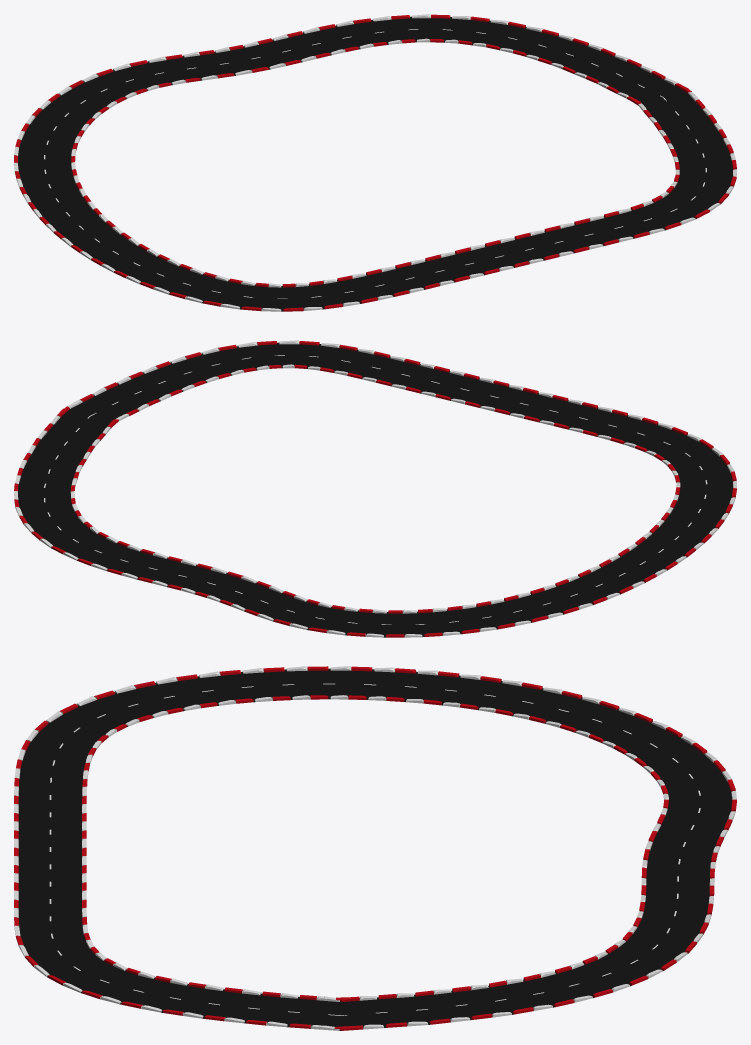
File: Track.fbx
3 views of the same model, one above another, from view 1: azimuth 30°, elevation 25°; view 2: azimuth 150°, elevation 25°; view 3: azimuth 270°, elevation 25° (orthographic). The views are drawn at different scales.
Visible parts, largest first — view 1: Plane.001; view 2: Plane.001; view 3: Plane.001.
Boxes of the visible parts, x1,y1,x2,y2 form: Plane.001: (14, 14, 736, 311); Plane.001: (14, 340, 736, 637); Plane.001: (14, 666, 736, 1030).
Size of the model in its own units: 16198 by 57.64 by 13662.
